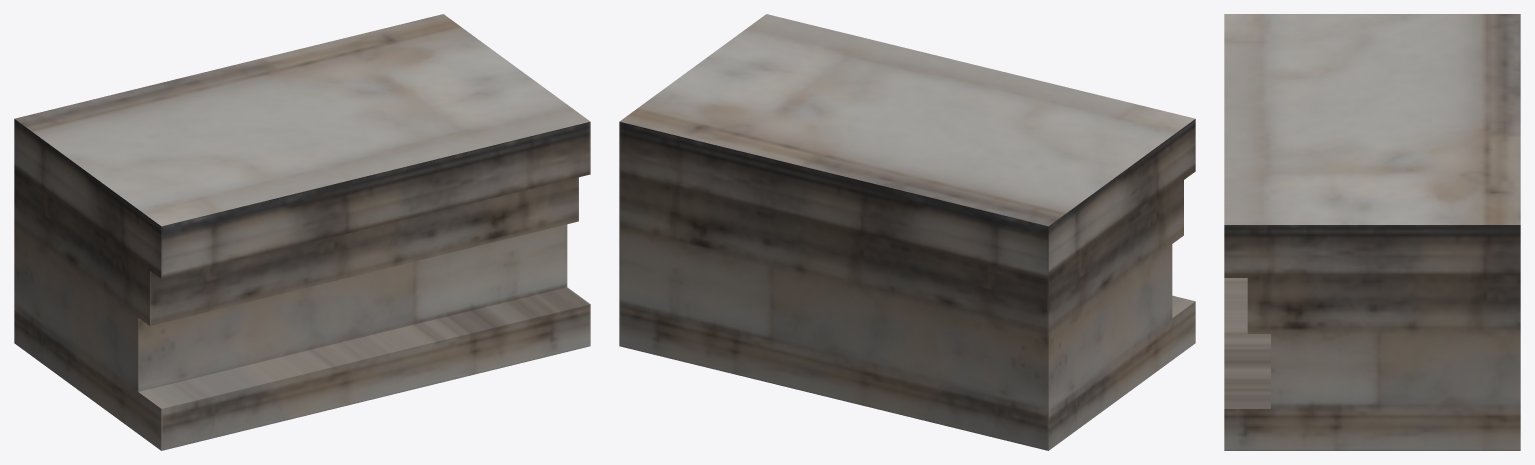
File: Pillar_Top.FBX
The picture shows the model from 3 angles, left to right: view 1: azimuth 30°, elevation 25°; view 2: azimuth 150°, elevation 25°; view 3: azimuth 270°, elevation 25°; orthographic projection.
Visible parts, largest first — view 1: Pillar_Top; view 2: Pillar_Top; view 3: Pillar_Top.
Boxes of the visible parts, bbox=[...] form: Pillar_Top: bbox=[14, 14, 590, 450]; Pillar_Top: bbox=[619, 14, 1195, 450]; Pillar_Top: bbox=[1224, 14, 1520, 450].
Bounding box in the file's own units: 256 × 128 × 152.
